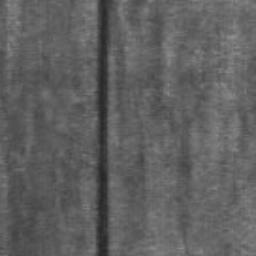Scratches: (93, 0, 111, 256)
